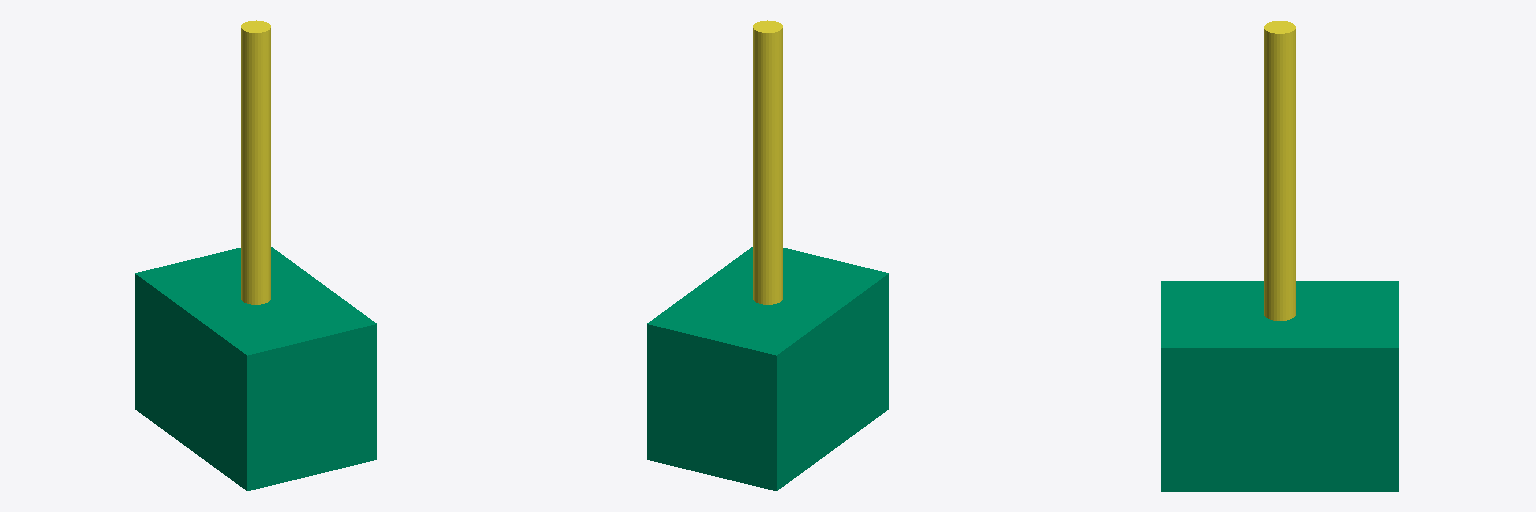
The robot description file, URDF, robot "LISM_Arm":
<?xml version="1.0" ?>
<robot name="LISM_Arm">
     <!--base of fixing arm-->
    <link name="world"/>

    <joint name="worldTobase" type="fixed">
        <parent link="world"/>
        <child link="base"/>
        <origin rpy="0 0 0" xyz="0.0 0.0 0.0"/>
    </joint>
    
    <link name="base">
        <!-- <visual>
            <origin rpy="0.0 0.0 0.0" xyz="0 0 0.01"/>
            <geometry>
                <box size = "0.2 0.3 0.02"/>
            </geometry>
        </visual> -->
    </link>

     <joint name="basetocar" type="prismatic">
        <axis xyz="0 1 0"/>
        <origin rpy="0 0 0" xyz="0.0 0.0 0.0"/>
        <parent link="base"/>
        <child link="car"/>
        <limit lower="-100" upper="100"/>
    </joint>

    <link name="car">
        <visual>
            <origin rpy="0.0 0.0 0.0" xyz="0 0 0.1"/>
            <geometry>
                <box size = "0.2 0.3 0.2"/>
            </geometry>
        </visual>
        <inertial>
            <mass value="0.5"/>
            <origin rpy="0.0 0.0 0.0" xyz="0 0 0.1"/>
            <inertia ixx="0.0104167" ixy="0" ixz="0.0" iyy="0.0104167" iyz="0" izz="0.000225"/>
        </inertial>
    </link>

    <joint name="carToLink" type="revolute">
        <axis xyz="-1 0 0"/>
        <origin rpy="0 0 0" xyz="0.0 0.0 0.2"/>
        <parent link="car"/>
        <child link="link1"/>
        <limit lower="-100" upper="100"/>
    </joint>

    <link name="link1">
        <visual>
            <origin rpy="0.0 0.0 0.0" xyz="0 0 0.2"/>
            <geometry>
                <cylinder length="0.4" radius="0.02"/>
            </geometry>
        </visual>
        <inertial>
            <mass value="0.3"/>
            <origin rpy="0.0 0.0 0.0" xyz="0 0 0.2"/>
            <inertia ixx="0.004" ixy="0" ixz="0.0" iyy="0.0104167" iyz="0" izz="0.000225"/>
        </inertial>
    </link>

</robot>

--- Facts derived from the render (not from the file) ---
Views: 3 orthographic renders of the robot side by side, from view 1: azimuth 30°, elevation 25°; view 2: azimuth 150°, elevation 25°; view 3: azimuth 270°, elevation 25°.
Model LISM_Arm with 4 links and 3 joints (1 revolute, 1 prismatic, 1 fixed), rooted at world, posed every joint at zero.
Visible links, largest first — view 1: car, link1; view 2: car, link1; view 3: car, link1.
Link boxes in pixels (box(x1,y1,x2,y2)): car: box(135, 247, 376, 490); link1: box(241, 20, 270, 304); car: box(647, 247, 888, 490); link1: box(753, 20, 782, 304); car: box(1161, 281, 1398, 491); link1: box(1264, 21, 1295, 320).
Size in the robot's own frame: 0.2 by 0.3 by 0.6 metres.
Geometry: primitives only (box / cylinder / sphere), no mesh files.
